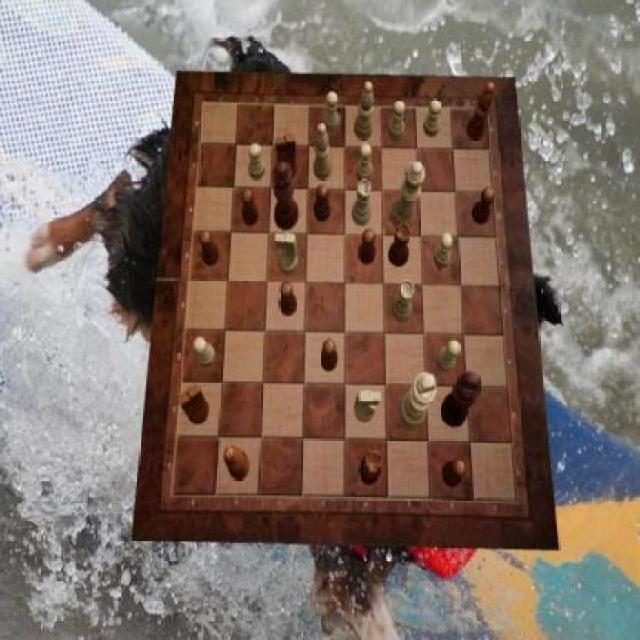bishop: (466, 82, 496, 140), (225, 444, 249, 480)
black-bishop: (440, 372, 481, 428)
black-king: (178, 383, 210, 425), (276, 134, 296, 180)
black-knight: (472, 186, 496, 224), (200, 230, 220, 266), (443, 460, 468, 488), (278, 282, 298, 316), (242, 188, 259, 225), (320, 338, 338, 372), (314, 184, 331, 220), (359, 229, 376, 264)
black-pawn: (274, 163, 300, 231)
black-queen: (388, 223, 410, 267), (360, 449, 383, 484)
black-rook: (354, 82, 374, 140), (313, 123, 332, 181)
white-bishop: (399, 372, 436, 430)
white-king: (276, 232, 300, 275), (354, 391, 381, 423)
white-knight: (437, 339, 460, 373), (434, 232, 453, 268), (423, 100, 441, 138), (388, 100, 404, 142), (194, 337, 217, 366), (323, 91, 339, 132), (357, 145, 374, 183), (249, 144, 266, 180)
white-pawn: (391, 162, 426, 230)
white-queen: (392, 280, 416, 322), (352, 179, 372, 226)
